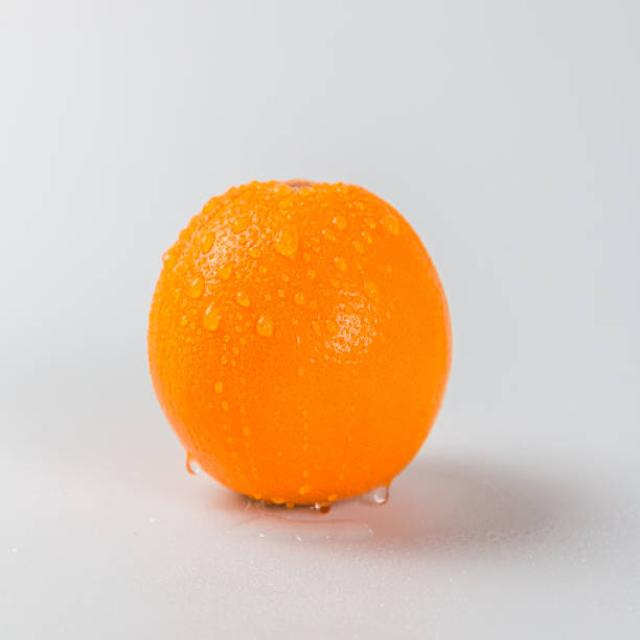Ripe: (147, 173, 456, 510)
